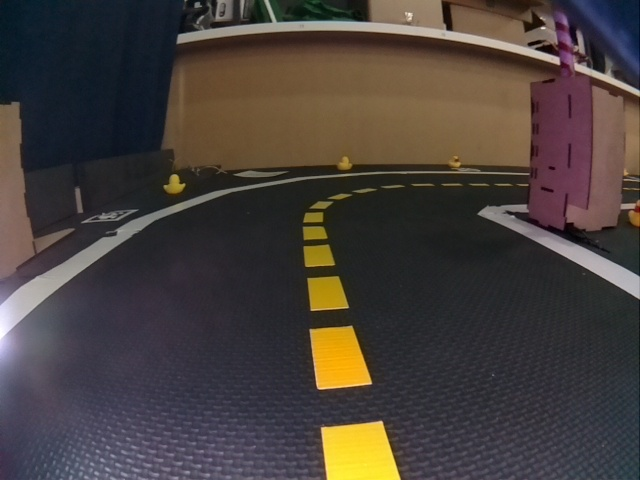Duckie: (163, 176, 184, 194), (629, 199, 639, 224), (337, 158, 352, 171), (447, 156, 462, 168)
QR code: (84, 210, 136, 222)
